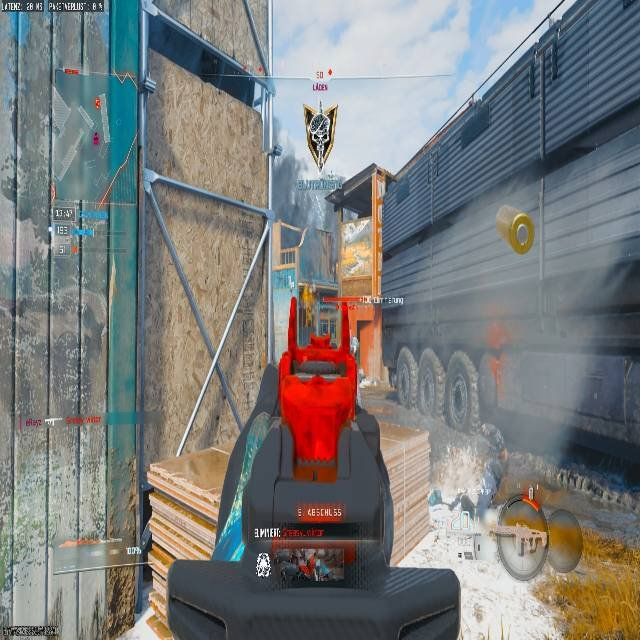player: (359, 368, 365, 384)
